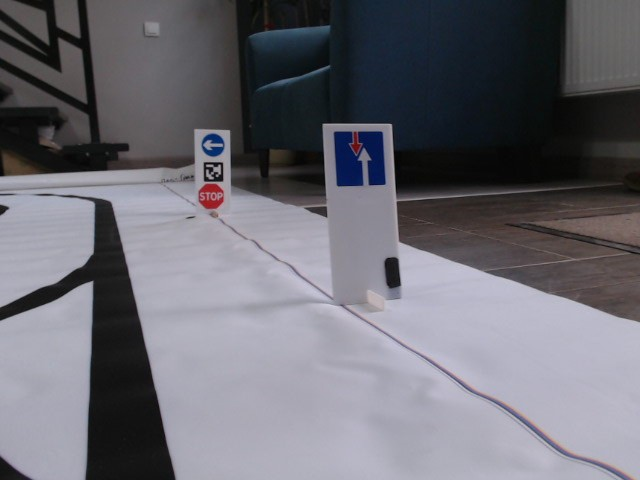Stop: (196, 182, 224, 209)
priority_movement: (333, 130, 387, 187)
